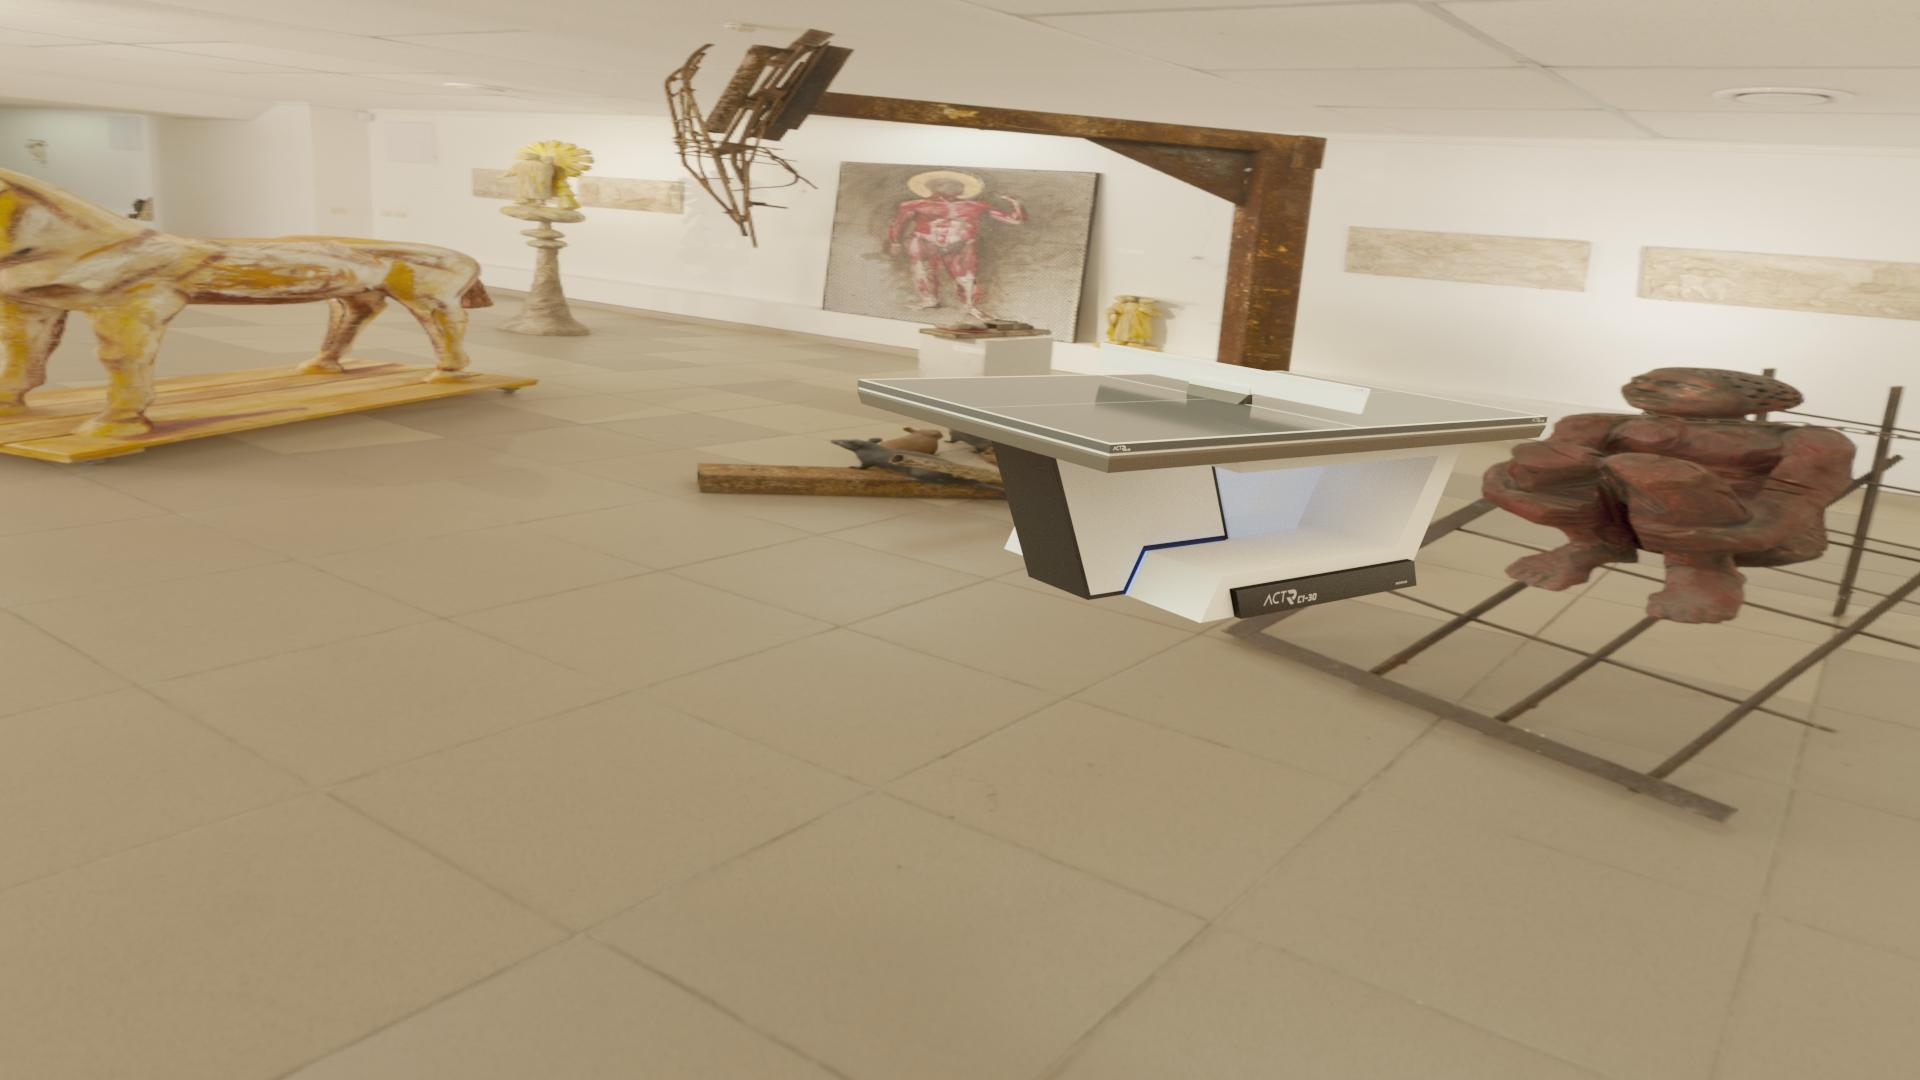table: (864, 372, 1542, 443)
